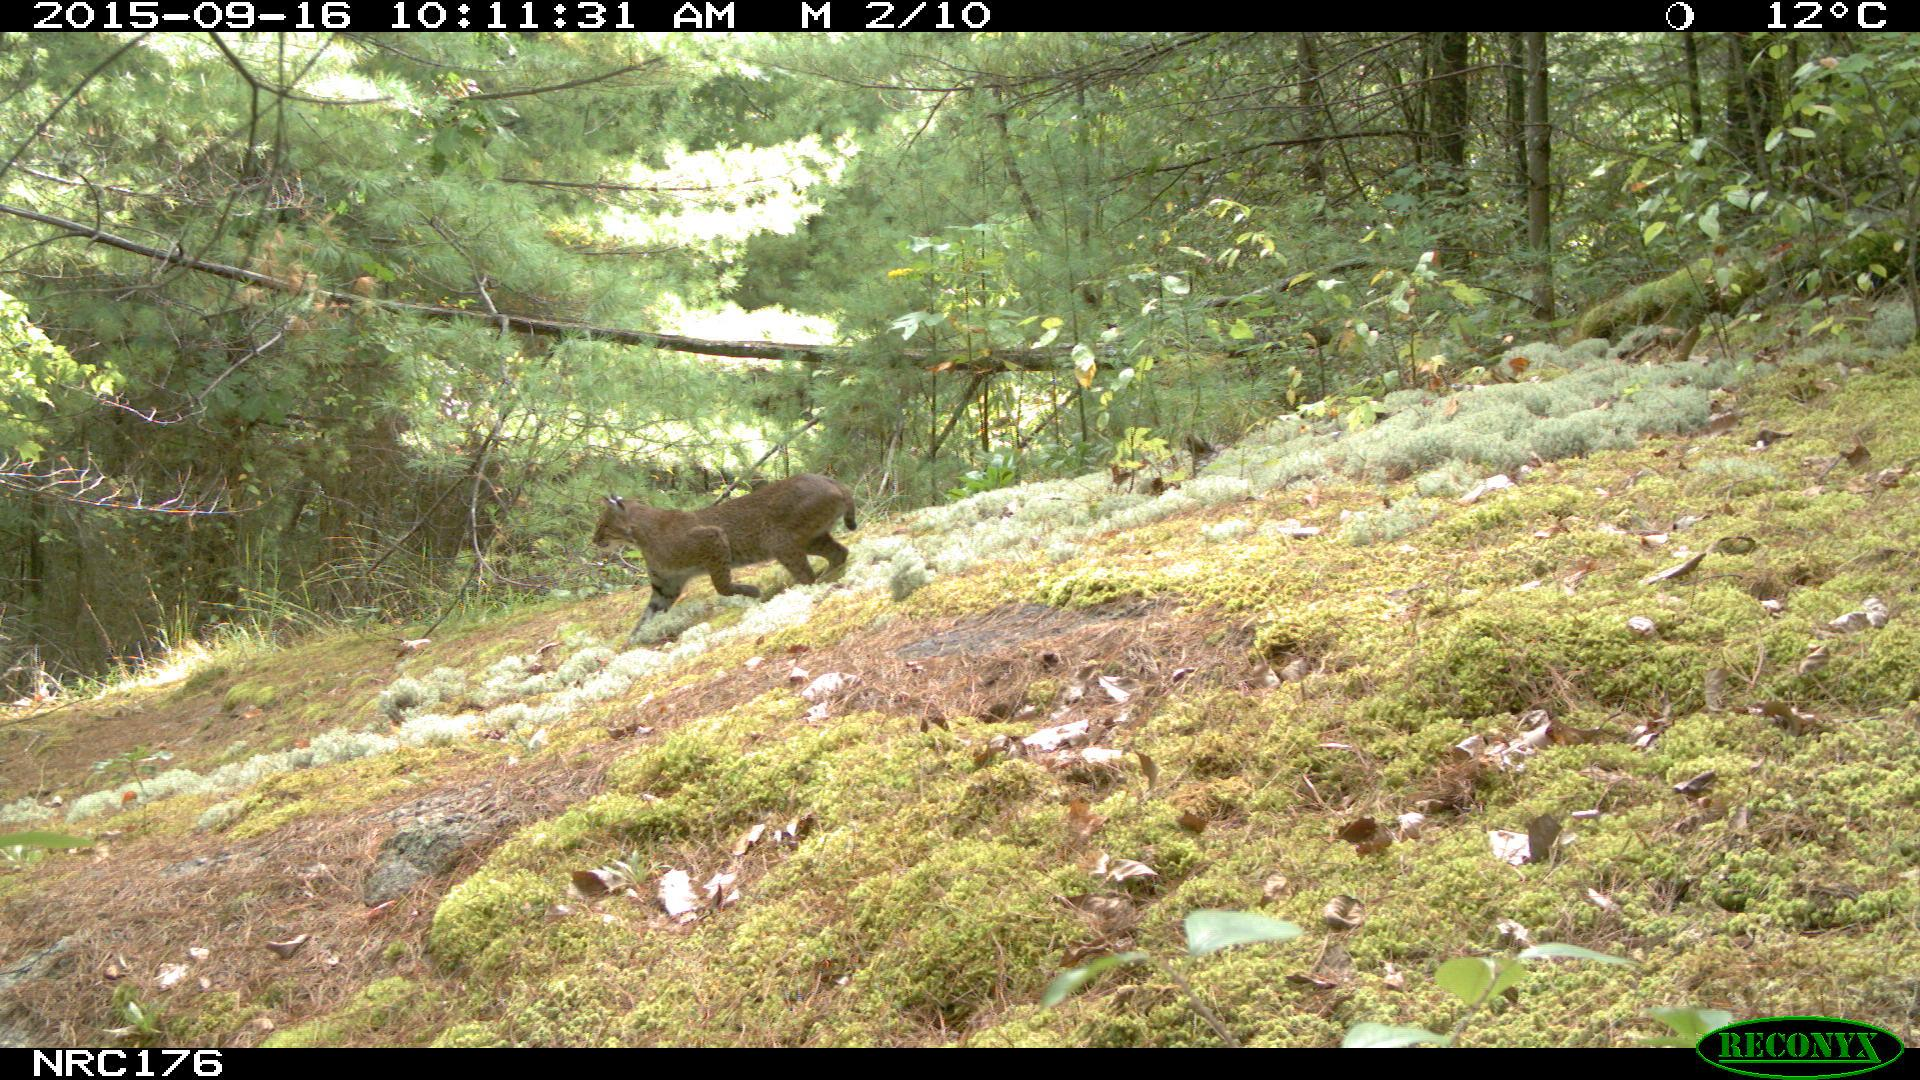Animal: (593, 473, 858, 647)
